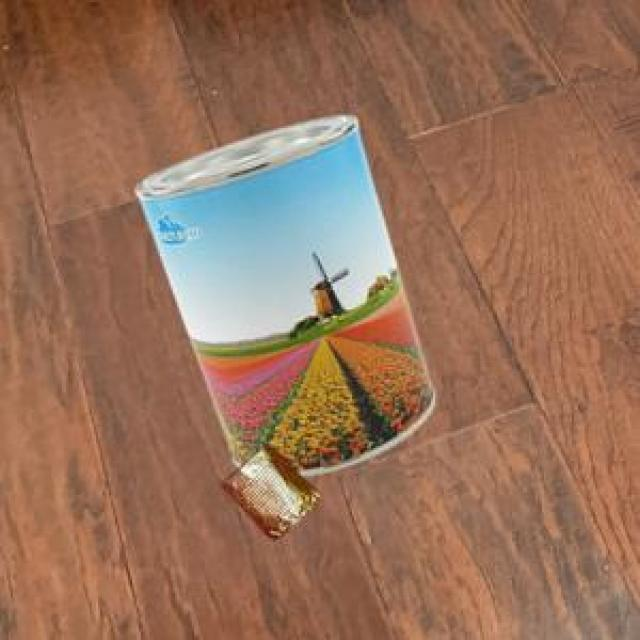Can: (133, 112, 432, 473), (219, 441, 315, 537)
